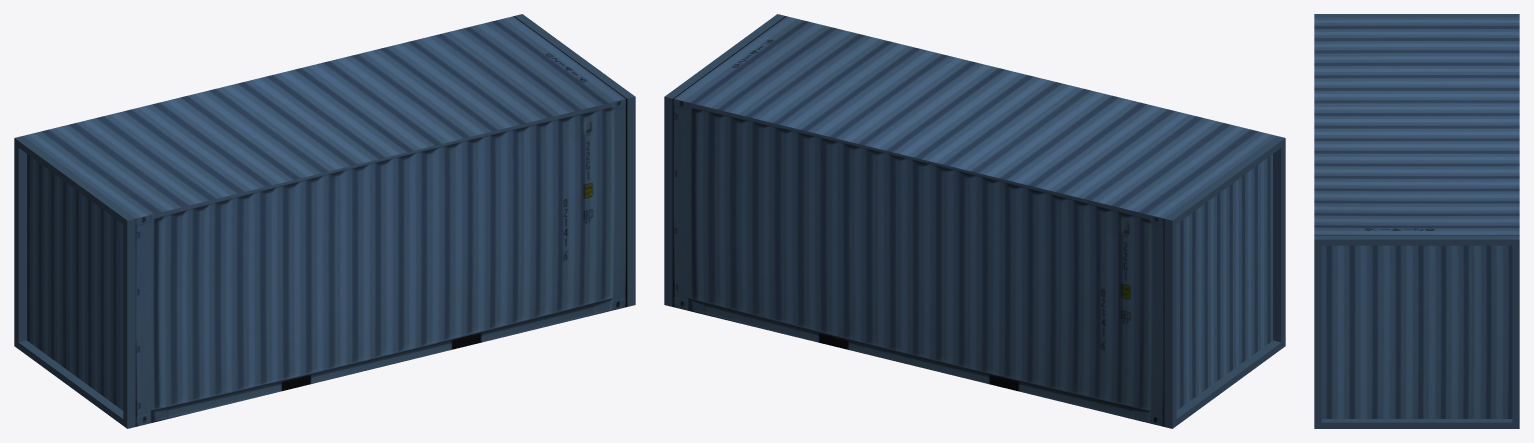
The model's file is containerExported.fbx.
The picture shows the model from 3 angles, left to right: view 1: azimuth 30°, elevation 25°; view 2: azimuth 150°, elevation 25°; view 3: azimuth 270°, elevation 25°; orthographic projection. The views are drawn at different scales.
Parts seen in each view (by area): view 1: container; view 2: container; view 3: container.
Boxes of the visible parts, x1=… form: container: x1=14, y1=14, x2=635, y2=428; container: x1=664, y1=14, x2=1285, y2=428; container: x1=1314, y1=14, x2=1519, y2=428.
Size of the model in its own units: 9.15 by 3.59 by 3.53.
